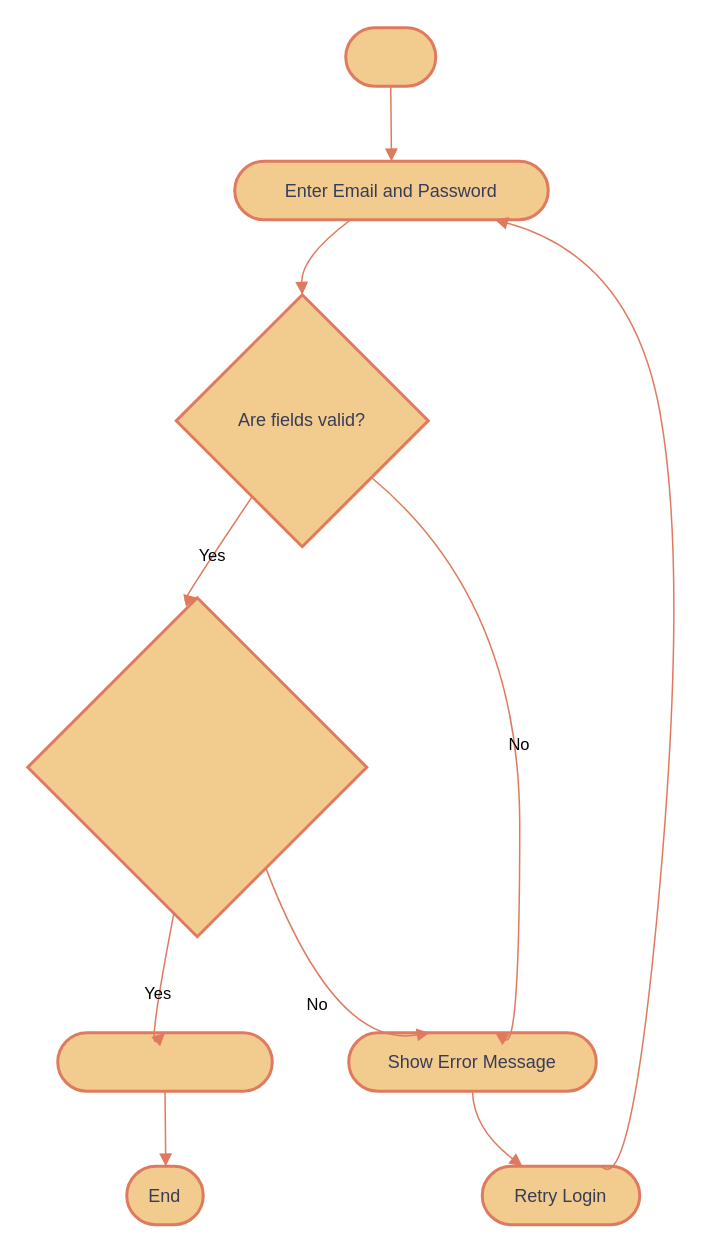
Some shapes in this 701 by 1251 pixel diagram are drawn without their labels. Here are the shapes that lost their labels. From the top down, the centre of each, then its label:
[390,56]: Start
[197,767]: Are credentials correct?
[164,1061]: Go to Dashboard
